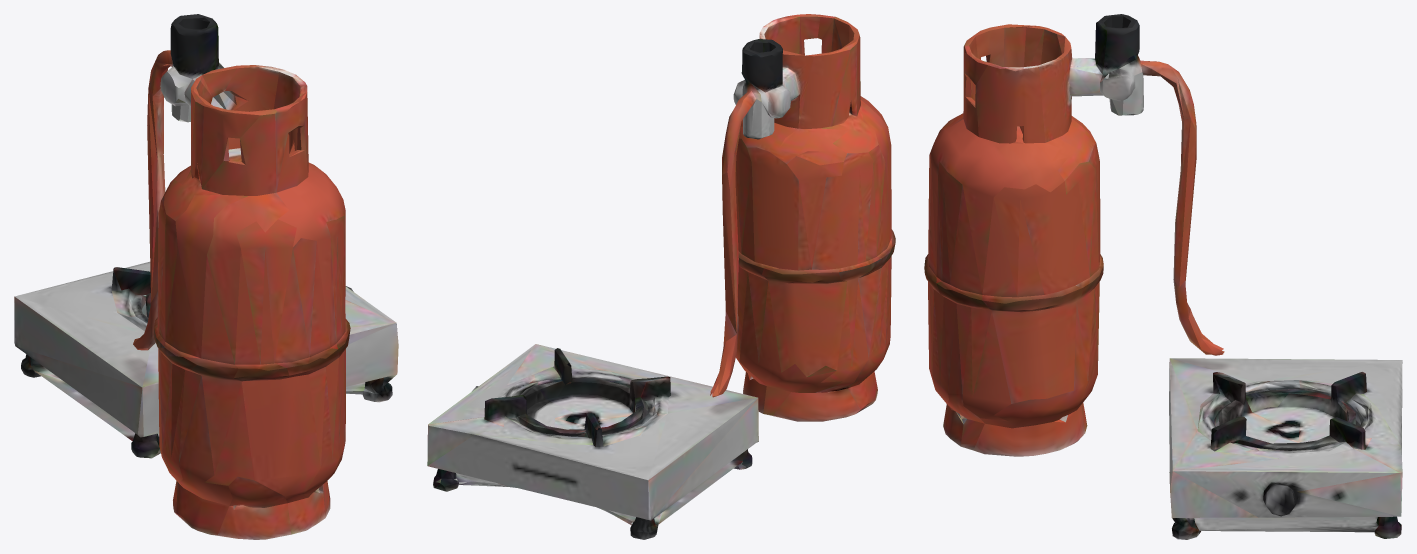
The model's file is gas-tank-stove.glb.
3 views of the same model, side by side, from view 1: azimuth 30°, elevation 25°; view 2: azimuth 150°, elevation 25°; view 3: azimuth 270°, elevation 25° (orthographic). The views are drawn at different scales.
Visible parts, largest first — view 1: Mesh_0.8026; view 2: Mesh_0.8026; view 3: Mesh_0.8026.
Part boxes in pixels (<box>): Mesh_0.8026: <box>14,14,398,539</box>; Mesh_0.8026: <box>427,14,895,539</box>; Mesh_0.8026: <box>924,14,1402,539</box>.
Size of the model in its own units: 0.4693 by 0.62 by 0.6469.
Materials: 1 (1 with a texture image).
